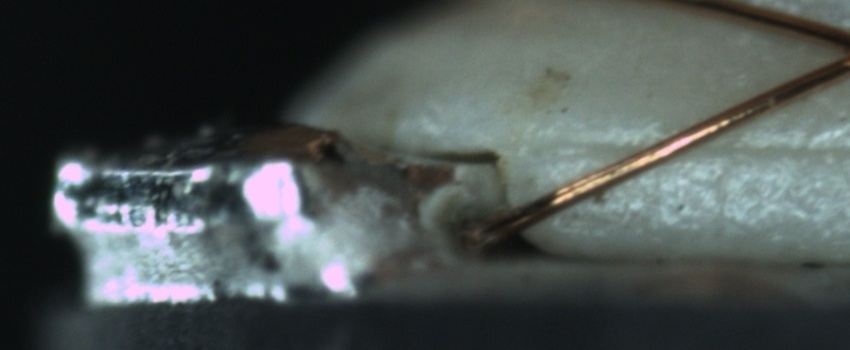DL: (542, 114, 850, 180)
